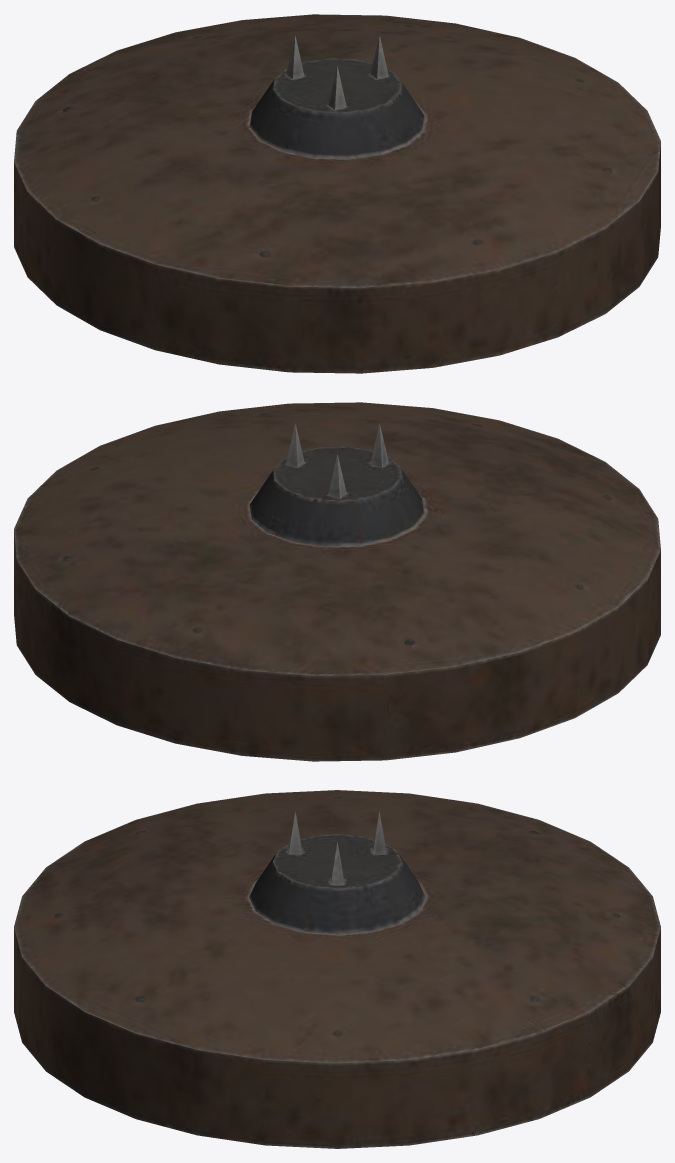
File: tusker_mines.glb
3 views of the same model, one above another, from view 1: azimuth 30°, elevation 25°; view 2: azimuth 150°, elevation 25°; view 3: azimuth 270°, elevation 25° (orthographic).
Parts seen in each view (by area): view 1: tusker_mines; view 2: tusker_mines; view 3: tusker_mines.
Boxes of the visible parts, x1,y1,x2,y2 form: tusker_mines: (14,14,660,373); tusker_mines: (14,402,660,761); tusker_mines: (14,790,660,1148).
Bounding box in the file's own units: 0.288 × 0.1 × 0.288.
Materials: 1 (1 with a texture image).
